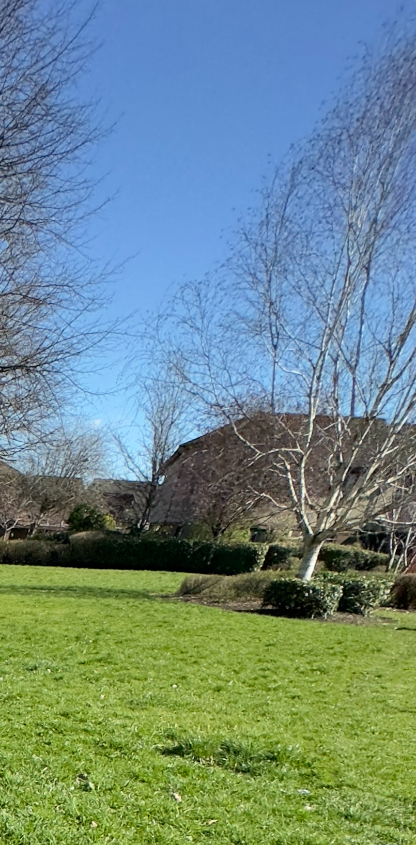tree: (236, 5, 416, 612), (110, 360, 198, 532), (25, 426, 102, 529)
